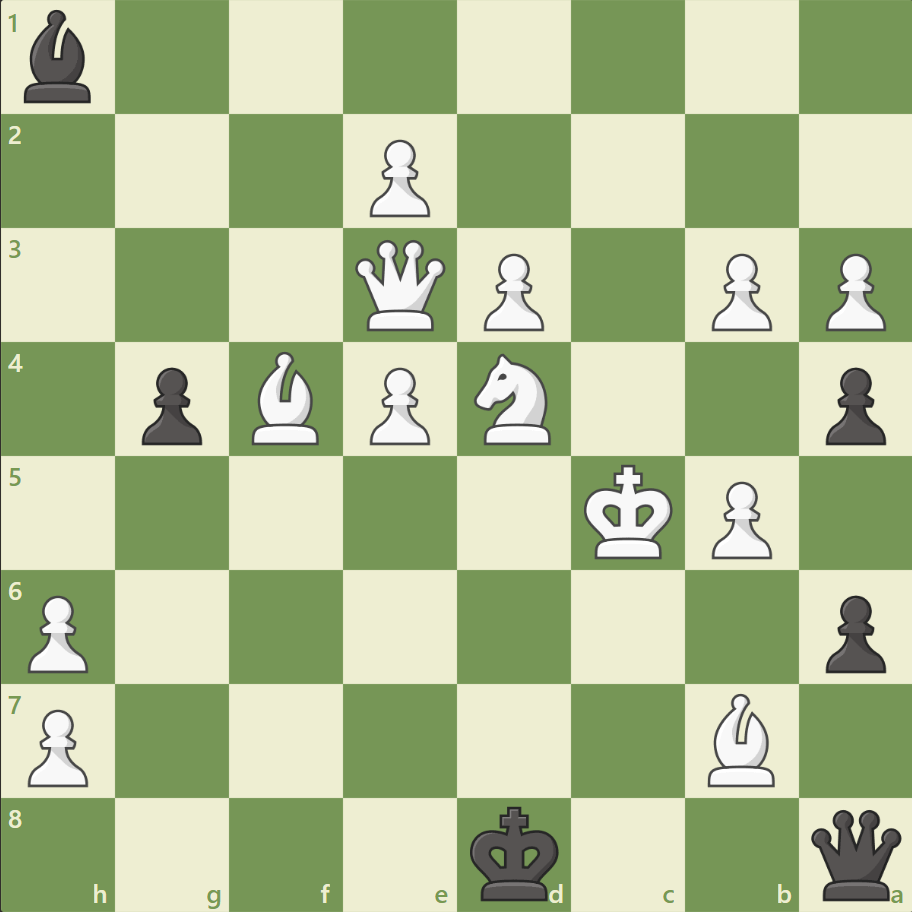B: (698, 687, 782, 790), (244, 347, 328, 449)
K: (579, 458, 679, 566)
N: (465, 348, 562, 450)
P: (20, 700, 95, 791), (20, 586, 95, 677), (701, 473, 776, 564), (701, 246, 776, 337), (474, 246, 549, 337), (361, 359, 435, 450), (815, 246, 889, 337), (361, 132, 435, 223)
Q: (351, 236, 450, 335)
b: (17, 6, 101, 109)
k: (465, 798, 565, 906)
p: (133, 359, 208, 450), (815, 586, 889, 677), (815, 359, 889, 450)
q: (805, 804, 904, 903)
